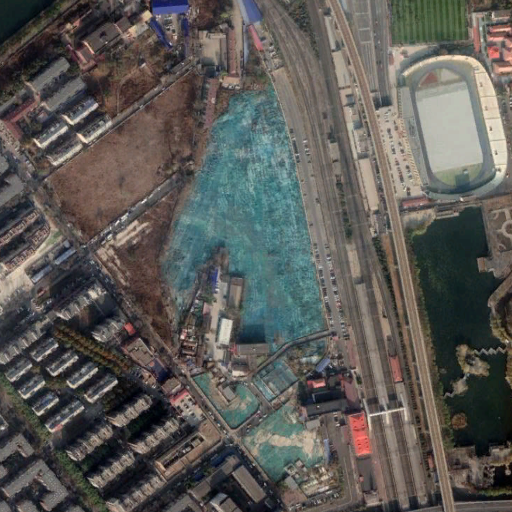cw: (160, 77, 328, 477)
